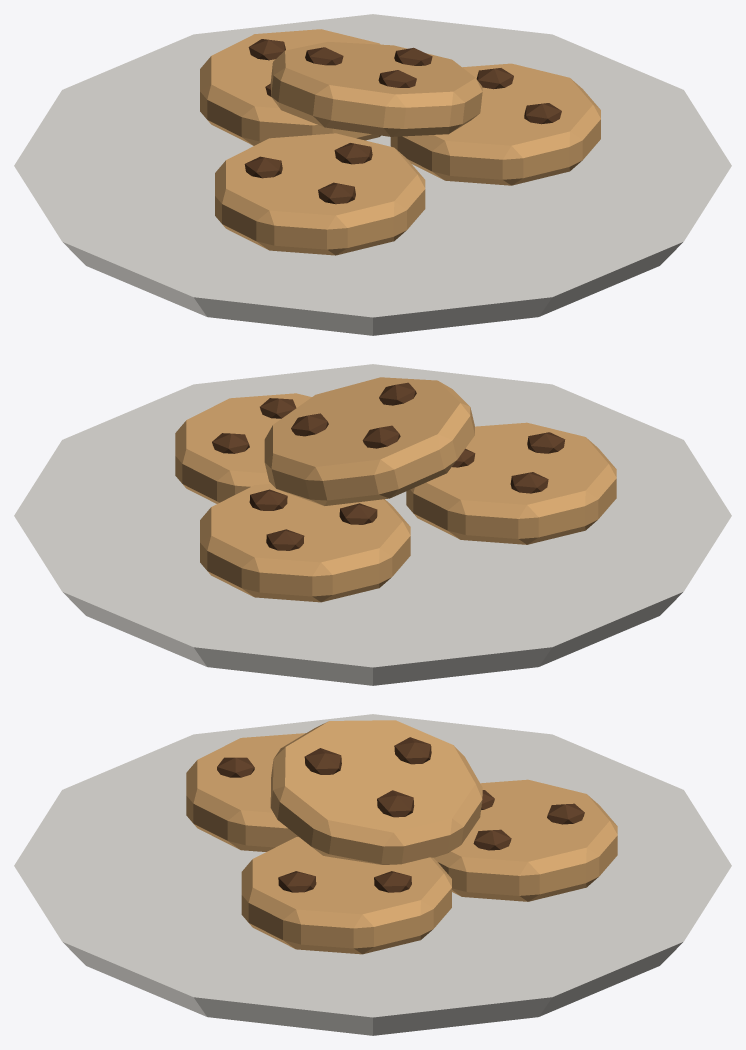
File: cookie_plate.glb
3 views of the same model, one above another, from view 1: azimuth 30°, elevation 25°; view 2: azimuth 150°, elevation 25°; view 3: azimuth 270°, elevation 25° (orthographic).
Visible parts, largest first — view 1: cookie_plate; view 2: cookie_plate; view 3: cookie_plate.
Boxes of the visible parts, <box> form: cookie_plate: <box>14,14,731,335</box>; cookie_plate: <box>14,364,731,685</box>; cookie_plate: <box>14,714,731,1035</box>.
Bounding box in the file's own units: 0.26 × 0.0652 × 0.26.
